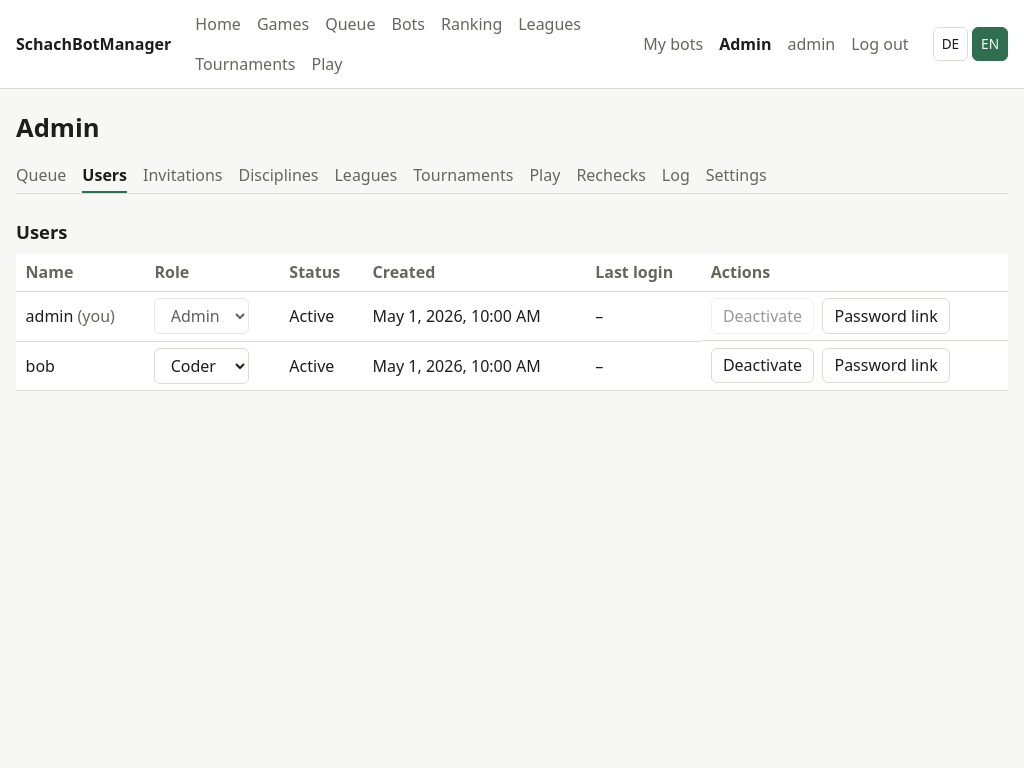
admin users › deactivates an account and creates a reset link
Check: the button "Deactivate" in the row of "you" is disabled, box 711,298 -> 814,334
Check: the dropdown named "Role of admin" is disabled, box 154,298 -> 249,334
Click the button "Deactivate" in the row of "bob" at point(762, 365), box 711,348 -> 814,383
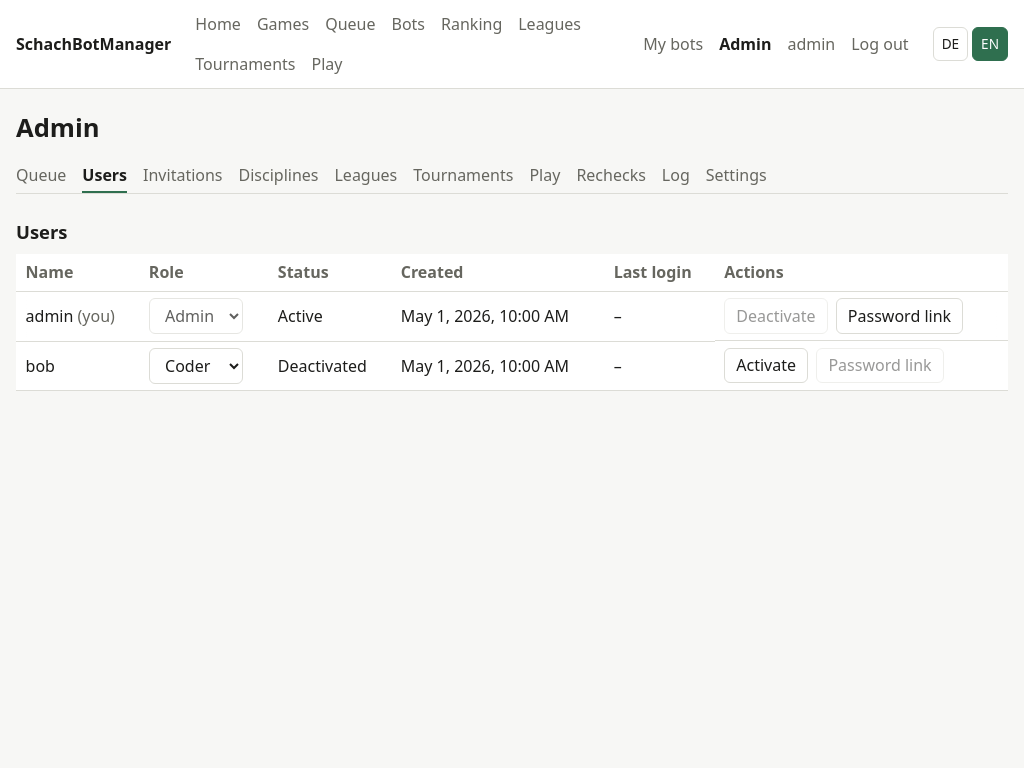
Check: the text "Deactivated" is shown, box 268,341 -> 391,391
Click the button "Activate" at point(766, 365), box 724,348 -> 808,383
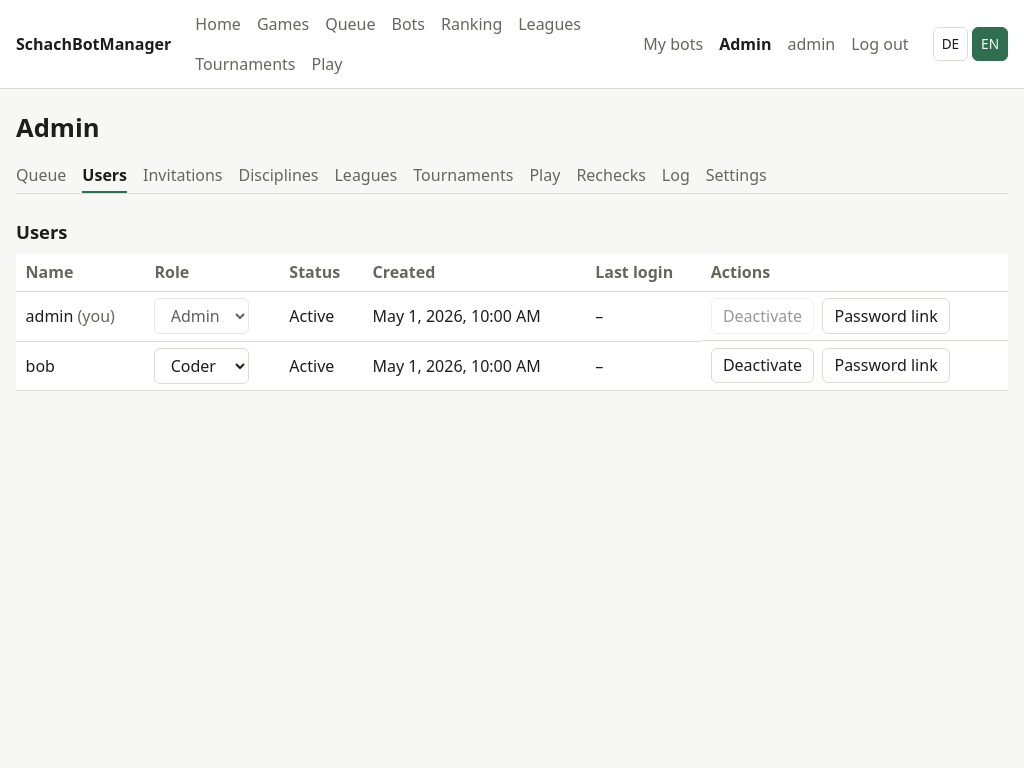
Check: the text "Active" in the row of "bob" is shown, box 289,355 -> 334,377
Click the button "Password link" in the row of "bob" at point(886, 365), box 822,348 -> 950,383
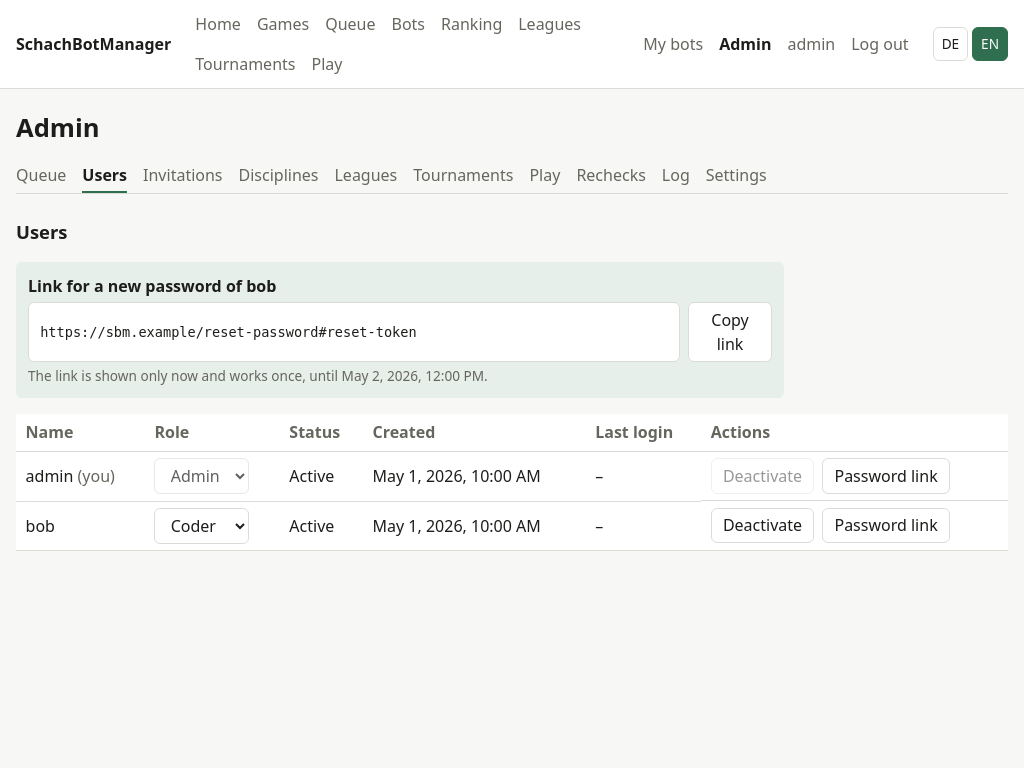
Check: the text "Link for a new password of bob" is shown, box 28,275 -> 276,297
